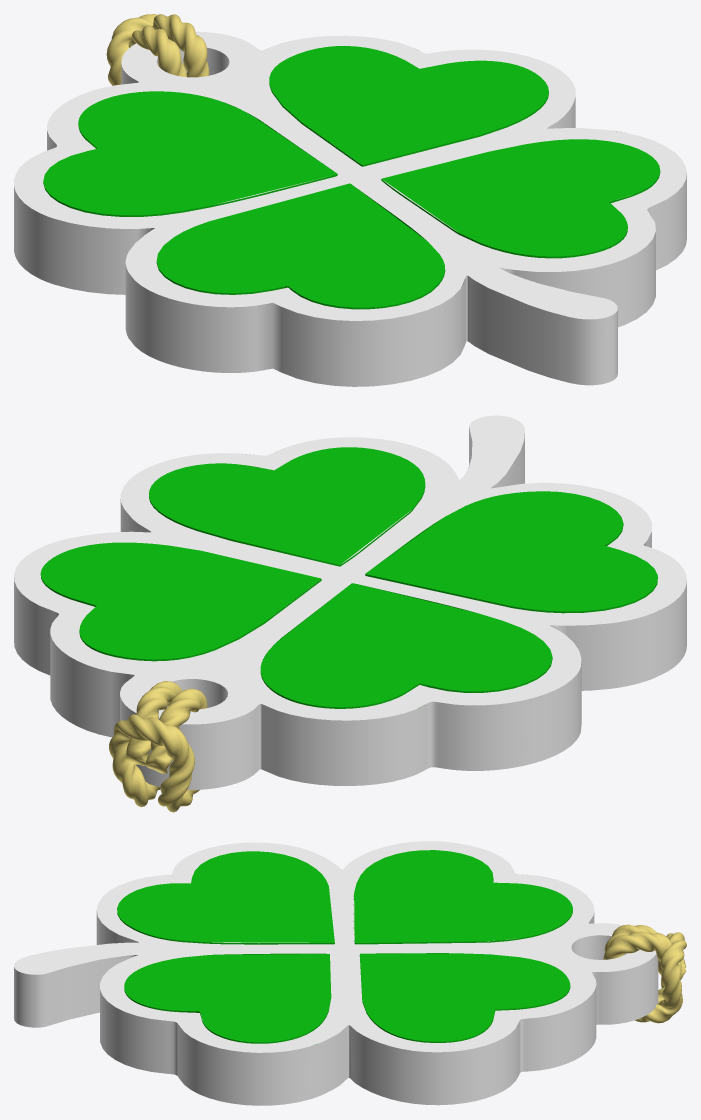
File: clover.glb
The picture shows the model from 3 angles, top to bottom: view 1: azimuth 30°, elevation 25°; view 2: azimuth 150°, elevation 25°; view 3: azimuth 270°, elevation 25°; orthographic projection. The views are drawn at different scales.
Visible parts, largest first — view 1: Curve.004; view 2: Curve.004; view 3: Curve.004.
Part boxes in pixels (left/top/right/bottom): Curve.004: left=14, top=14, right=686, bottom=386; Curve.004: left=14, top=415, right=686, bottom=812; Curve.004: left=14, top=841, right=686, bottom=1105.
Bounding box in the file's own units: 0.0515 × 0.0101 × 0.0692.
